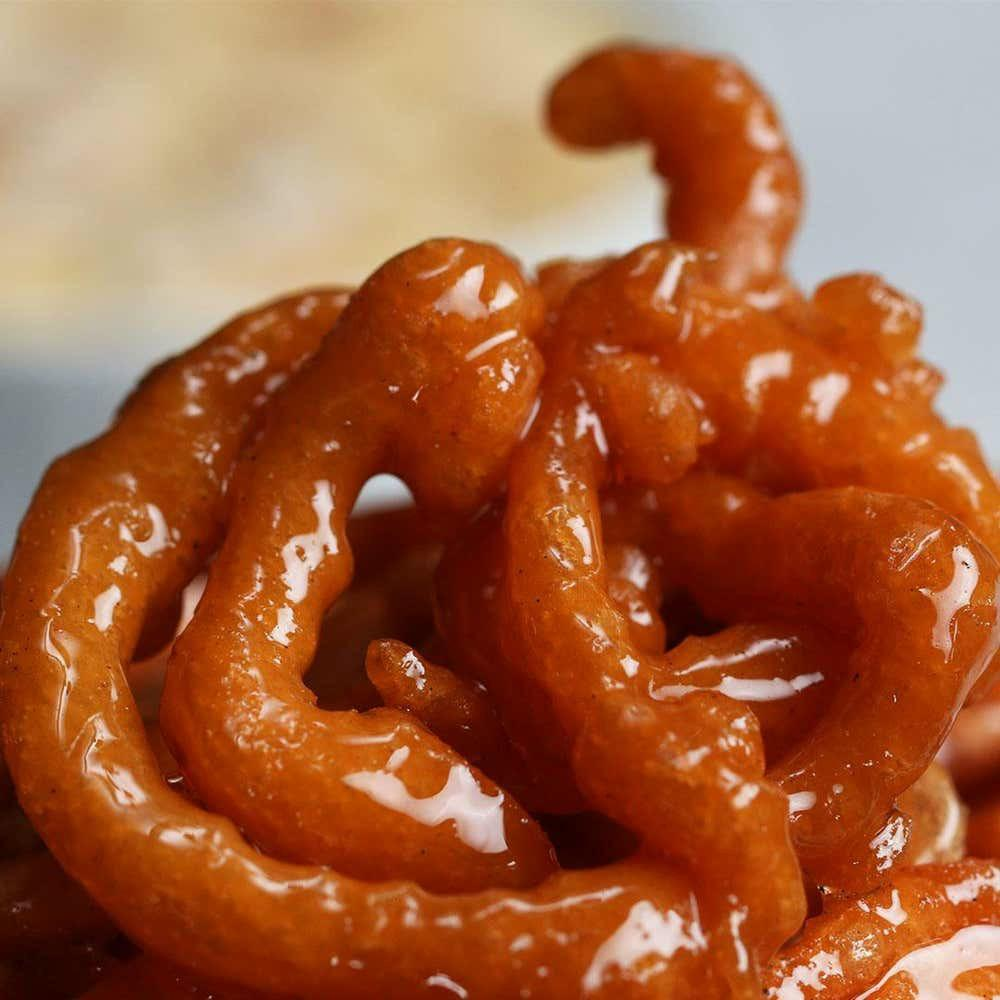Jalebi: (0, 36, 1000, 1000)
